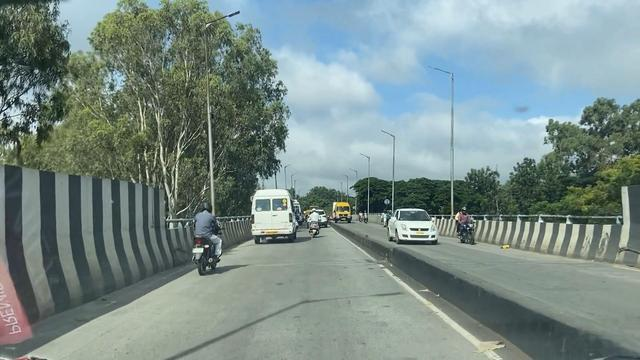HMV: (247, 188, 293, 244)
LMV: (188, 203, 215, 279), (308, 207, 320, 238)
